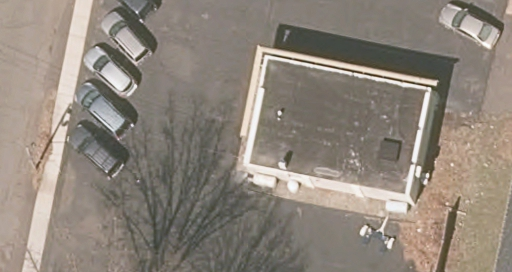DT: (25, 137, 54, 173)
